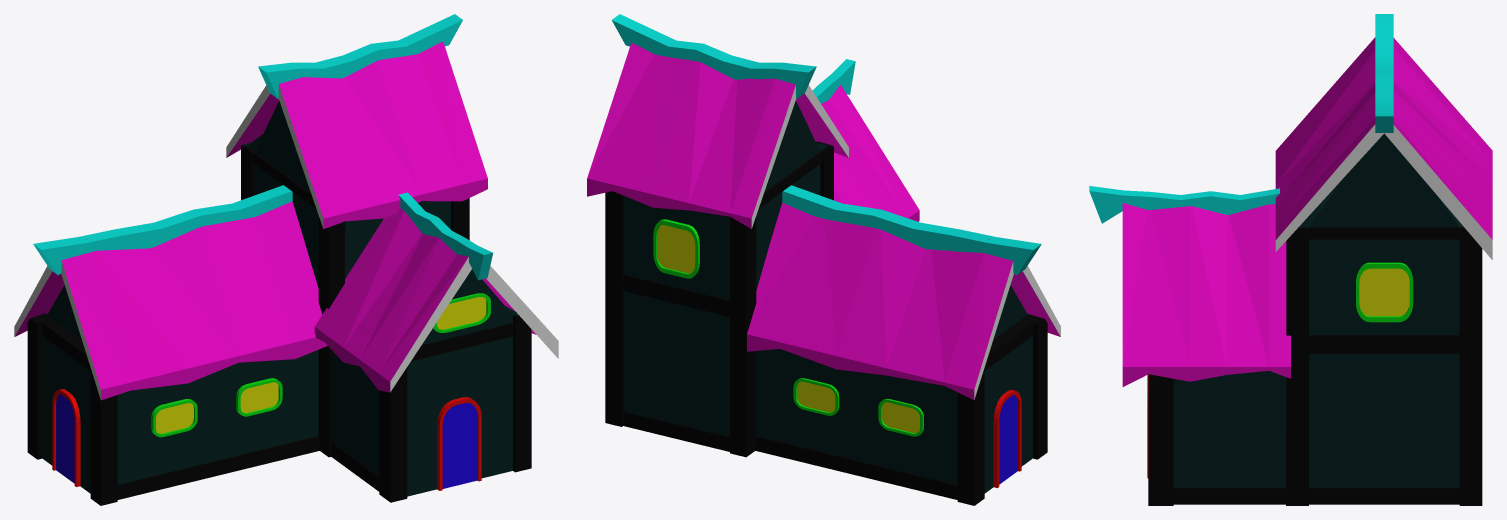
File: testhouse.fbx
3 views of the same model, side by side, from view 1: azimuth 30°, elevation 25°; view 2: azimuth 150°, elevation 25°; view 3: azimuth 270°, elevation 25° (orthographic). The views are drawn at different scales.
Parts seen in each view (by area): view 1: Box002; view 2: Box002; view 3: Box002.
Boxes of the visible parts, x1,y1,x2,y2 form: Box002: [14, 14, 558, 505]; Box002: [587, 14, 1060, 505]; Box002: [1089, 14, 1492, 505].
Size of the model in its own units: 913 by 756 by 678.
